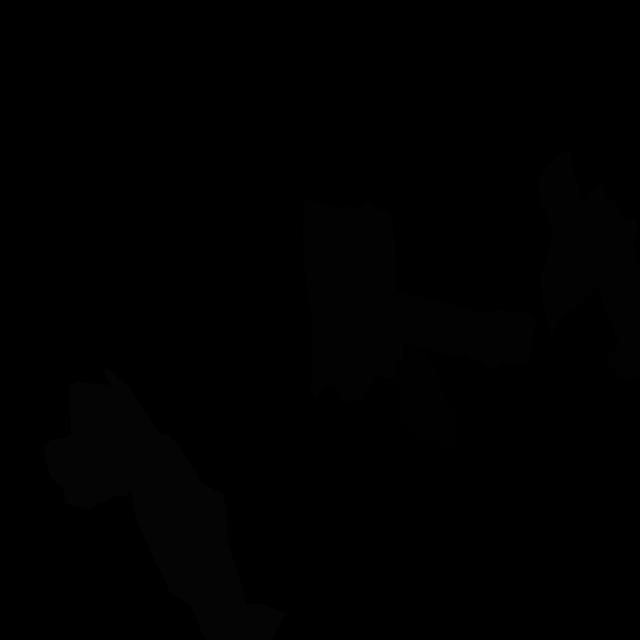cardboard: (536, 149, 640, 380), (303, 199, 403, 404), (392, 292, 536, 369)
rigid_plastic: (393, 348, 462, 449)
soft_plastic: (104, 368, 287, 640), (44, 381, 131, 510)
